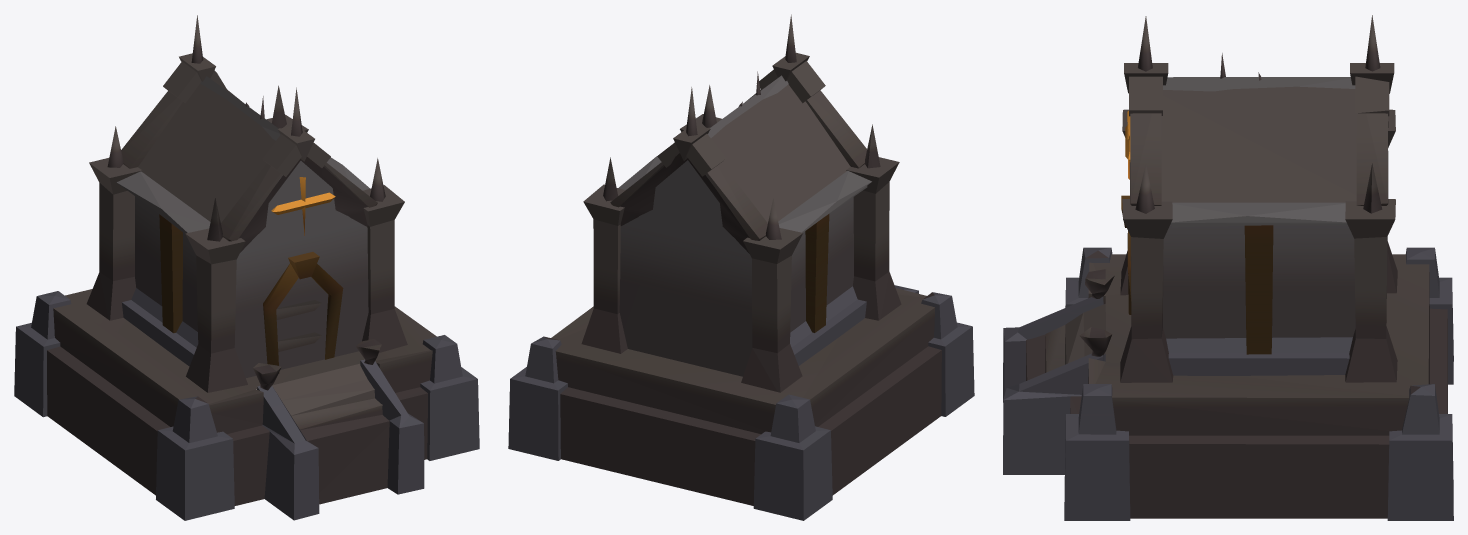
Rendered from Crypt_03_1.fbx.
The picture shows the model from 3 angles, left to right: view 1: azimuth 30°, elevation 25°; view 2: azimuth 150°, elevation 25°; view 3: azimuth 270°, elevation 25°; orthographic projection. The views are drawn at different scales.
Visible parts, largest first — view 1: Crypt_03_1; view 2: Crypt_03_1; view 3: Crypt_03_1.
Boxes of the visible parts, x1,y1,x2,y2 form: Crypt_03_1: [14, 15, 479, 520]; Crypt_03_1: [508, 14, 974, 520]; Crypt_03_1: [1003, 15, 1453, 520].
Bounding box in the file's own units: 842 × 1015 × 976.
